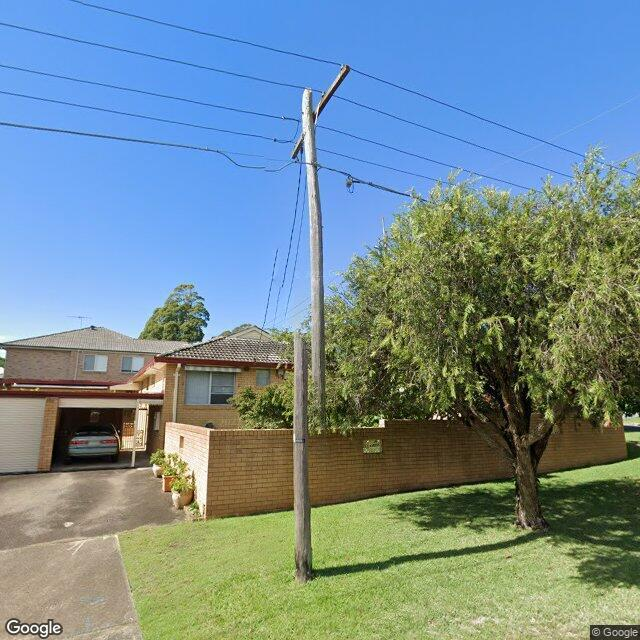crossarm: (290, 66, 350, 160)
timber-pole: (294, 87, 321, 578)
